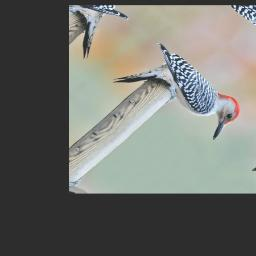Woodpecker: (102, 30, 256, 159)
